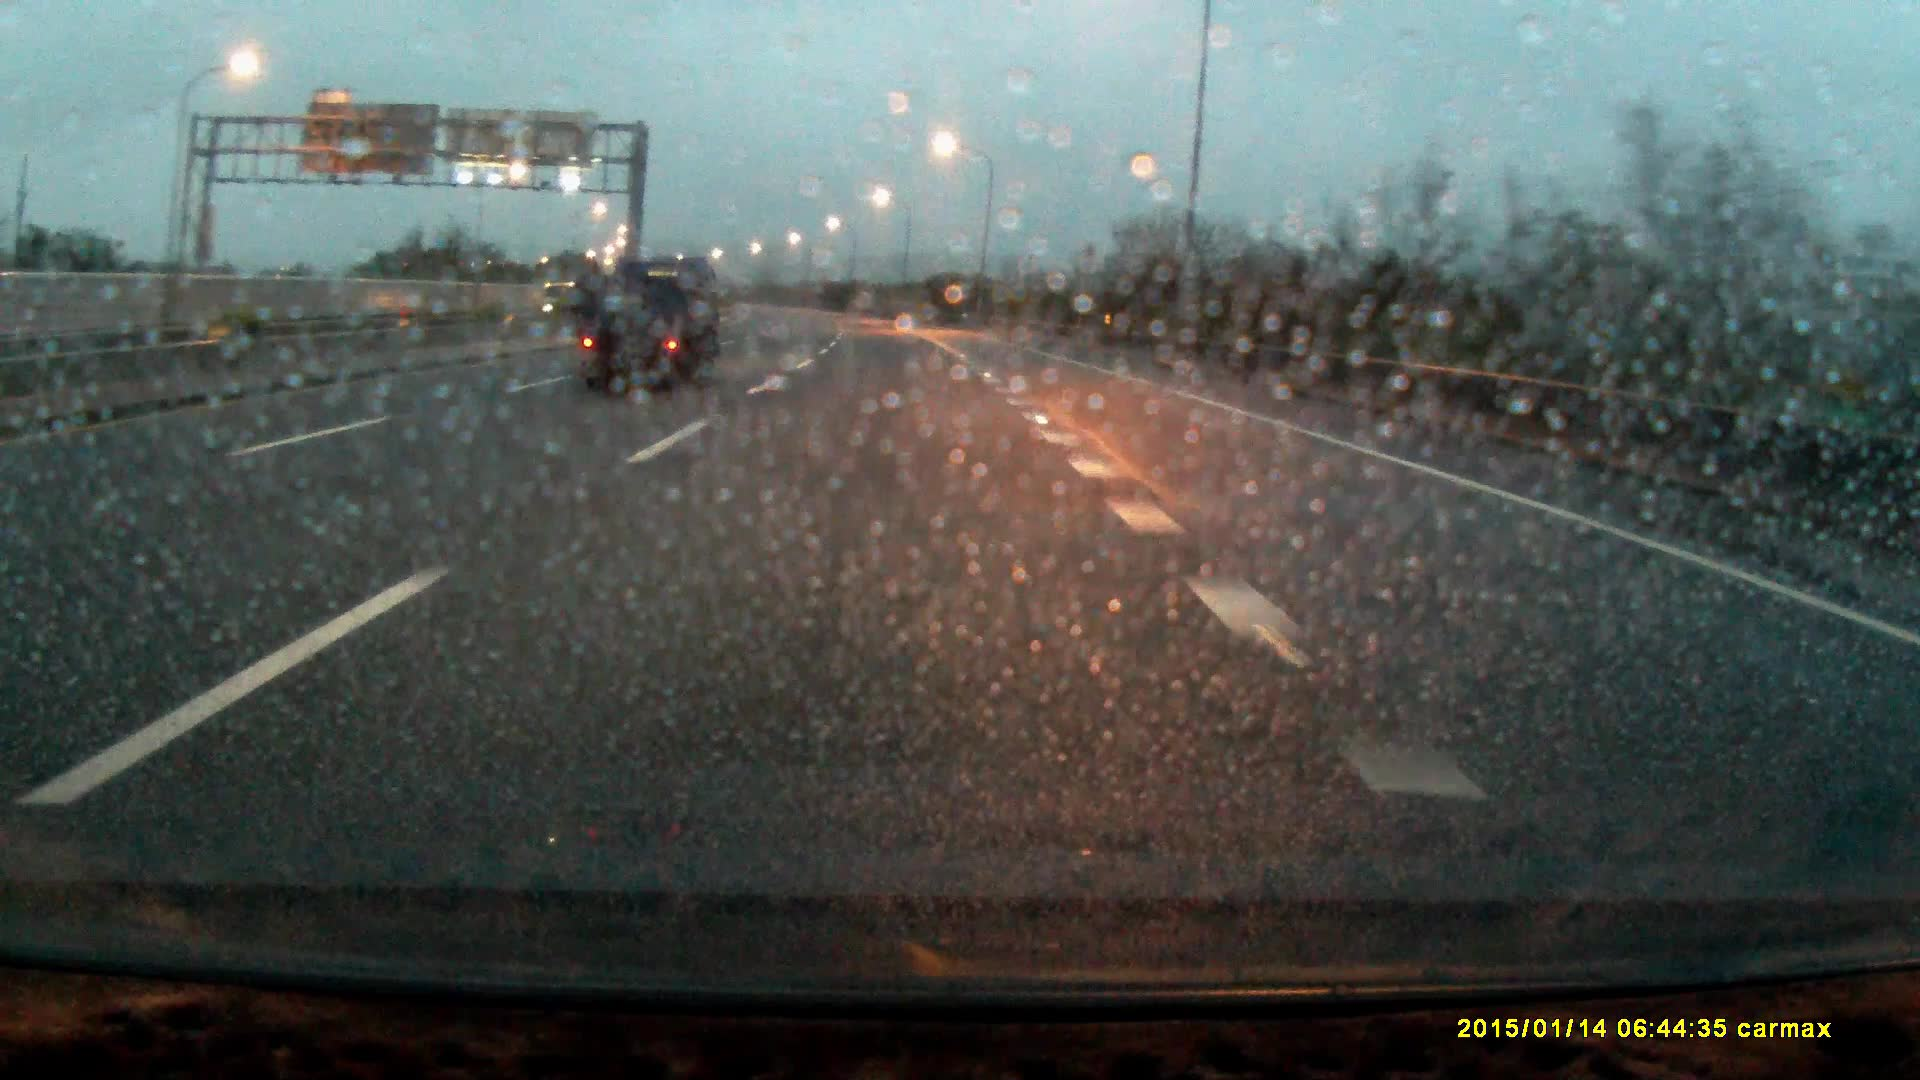vehicle: (574, 253, 724, 386)
